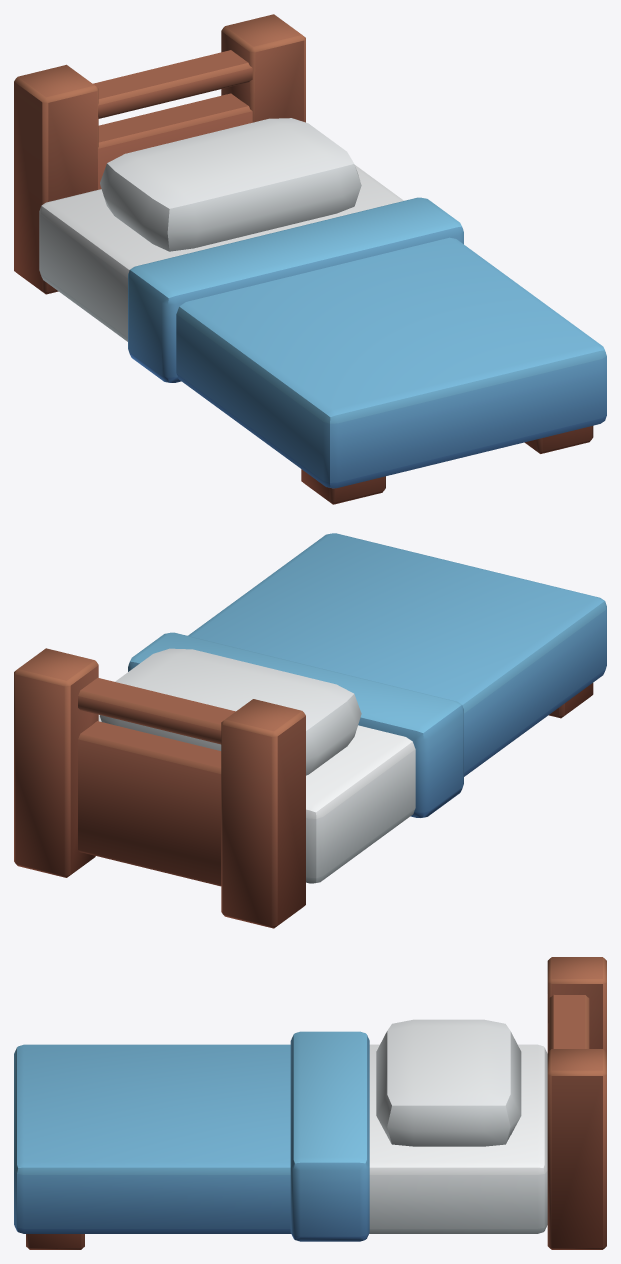
Rendered from bed_single_A.glb.
3 views of the same model, one above another, from view 1: azimuth 30°, elevation 25°; view 2: azimuth 150°, elevation 25°; view 3: azimuth 270°, elevation 25° (orthographic). The views are drawn at different scales.
Parts seen in each view (by area): view 1: bed_single_A; view 2: bed_single_A; view 3: bed_single_A.
Part boxes in pixels (bbox=[...]): bed_single_A: bbox=[14, 14, 606, 504]; bed_single_A: bbox=[14, 533, 606, 928]; bed_single_A: bbox=[14, 957, 606, 1249].
Bounding box in the file's own units: 1.6 × 1 × 3.
1 material, 1 textured.
